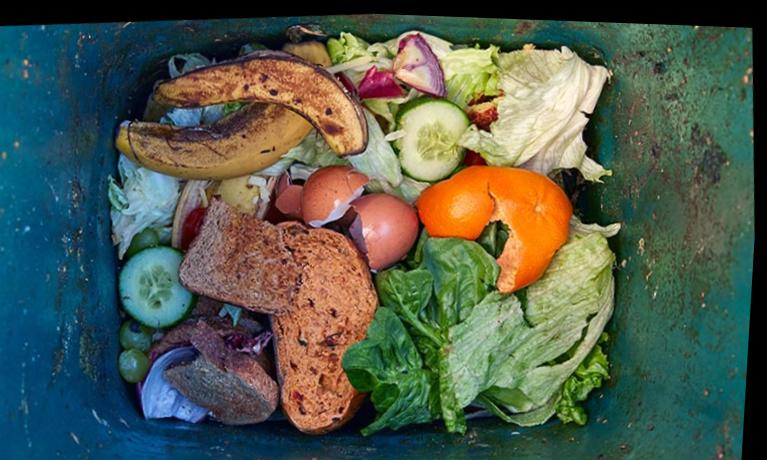organic: (425, 226, 631, 444), (104, 17, 341, 190), (253, 213, 392, 442), (148, 40, 374, 172), (449, 38, 622, 190), (407, 156, 581, 302), (171, 188, 307, 324), (155, 310, 286, 432), (113, 242, 202, 335), (387, 93, 474, 186), (389, 31, 449, 99), (115, 347, 153, 384)
